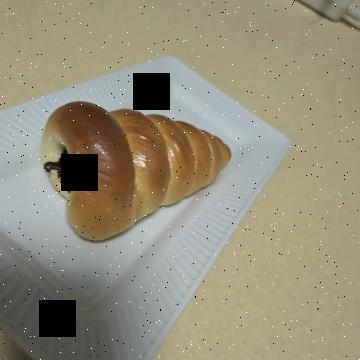cream horn: (86, 126, 258, 341)
